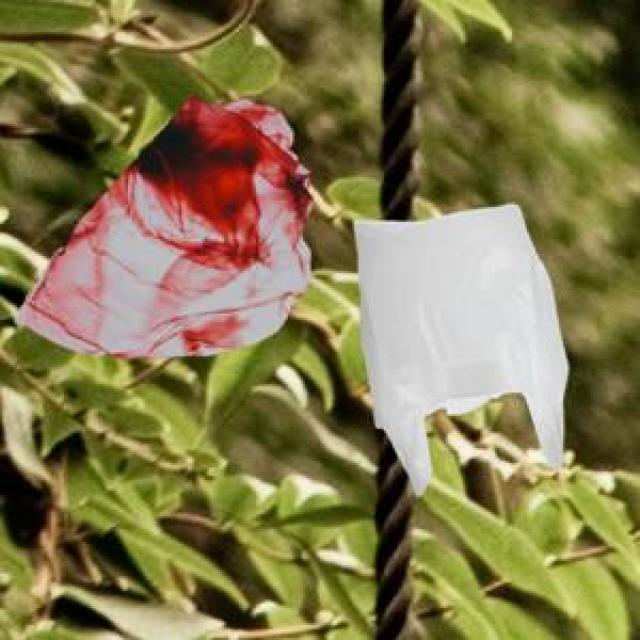Bolsa-de-plastico: (352, 204, 570, 499)
